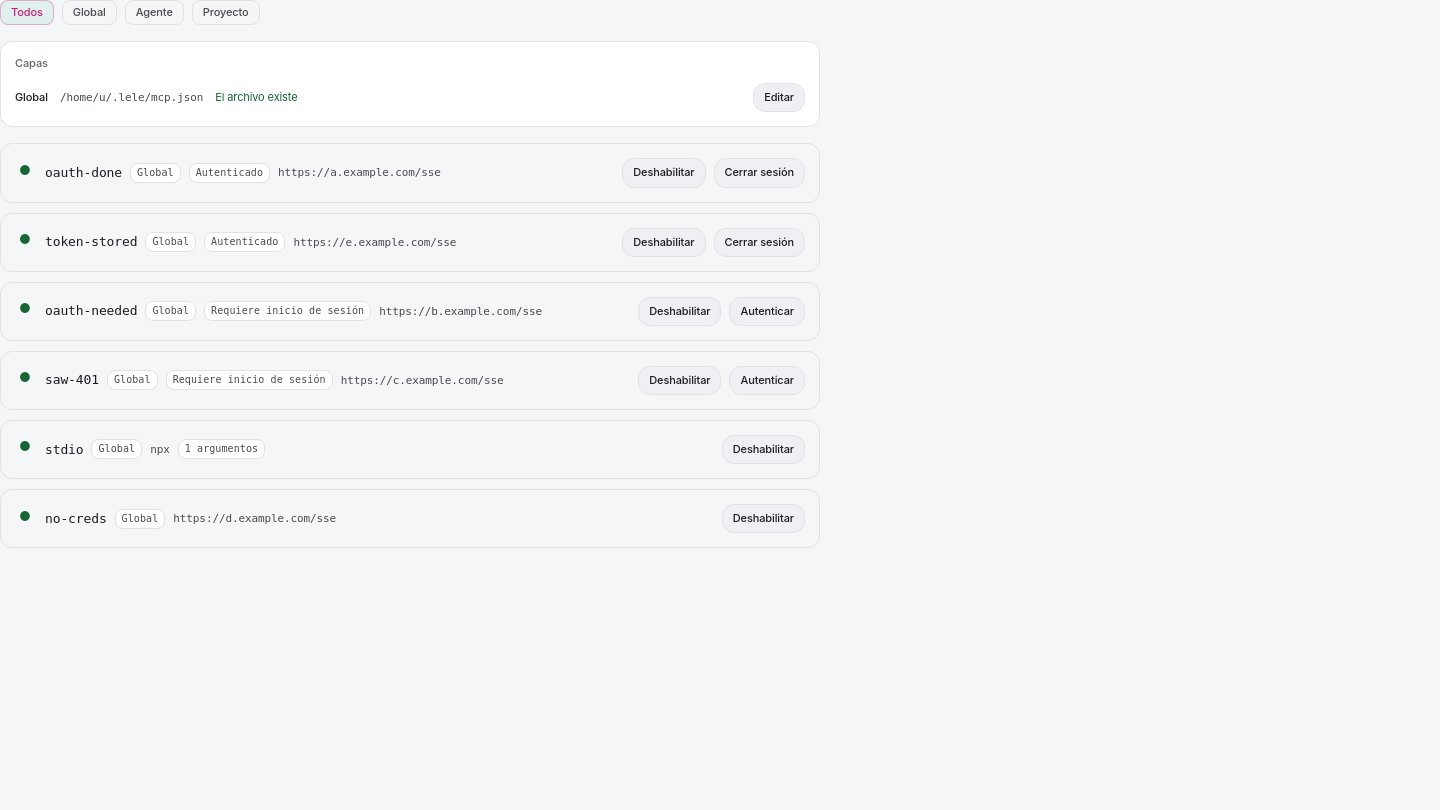
Test case: AgentMCPSection — starting a flow › a 501 mcp_auth_not_supported renders notSupported and NO paste box
Click the button "Autenticar" in the row of "https://b.example.com/sse" at (767, 311), box [730,297,805,326]
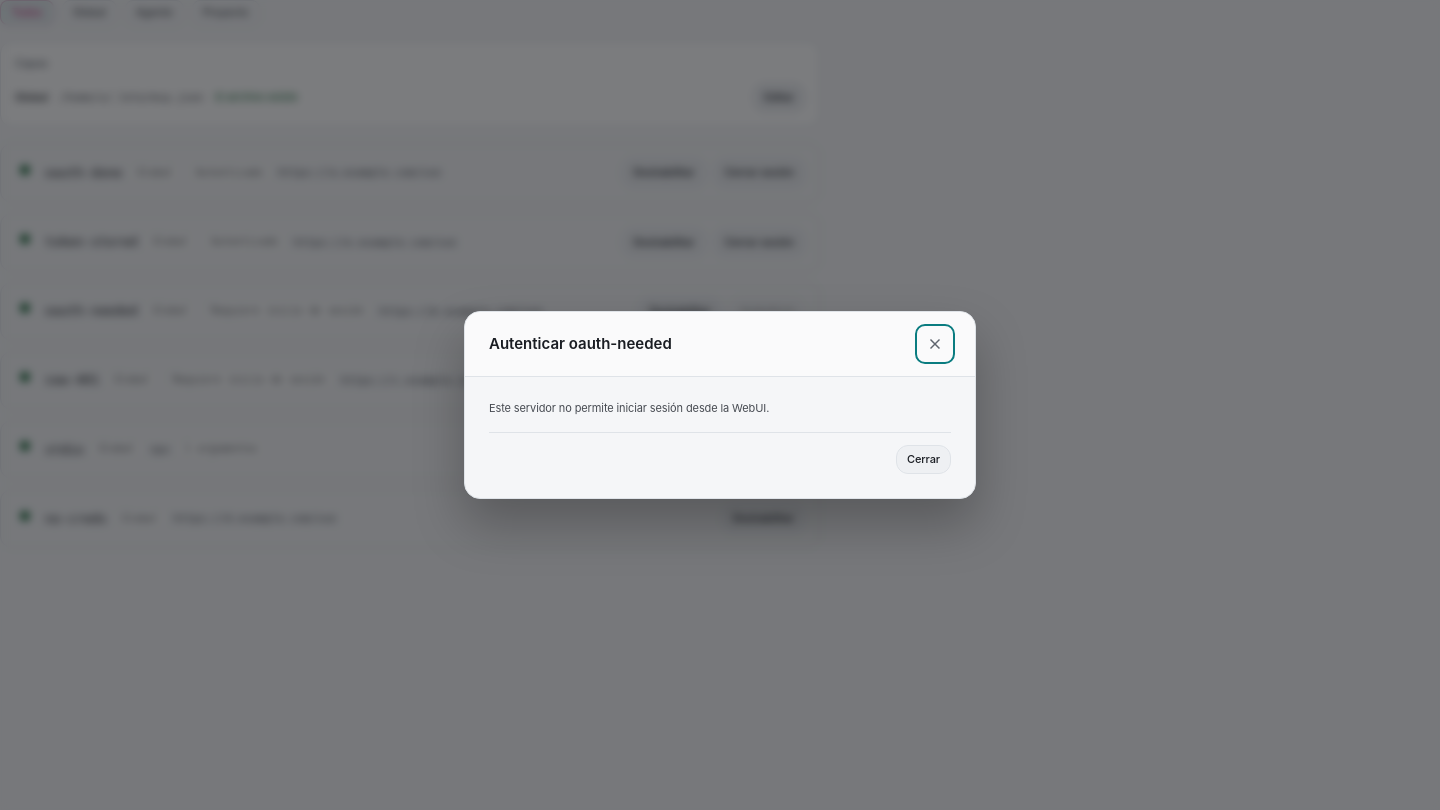
Check: the text "Este servidor no permite iniciar sesión desde la WebUI." is shown, box [489,401,769,415]
